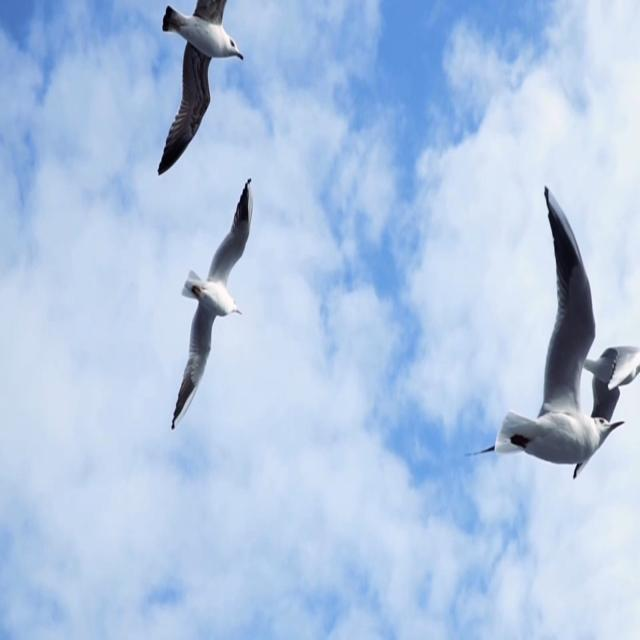bird: (414, 159, 640, 543), (161, 172, 292, 450), (134, 0, 252, 183), (567, 297, 640, 485)
